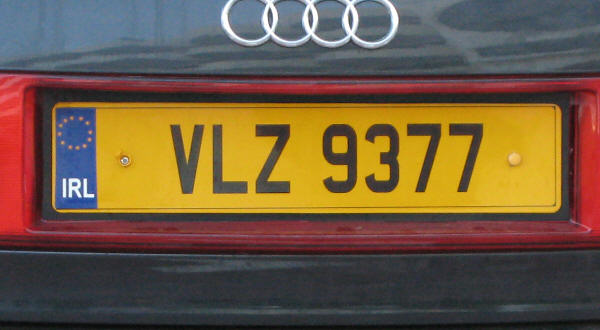license_plate: (51, 103, 562, 212)
